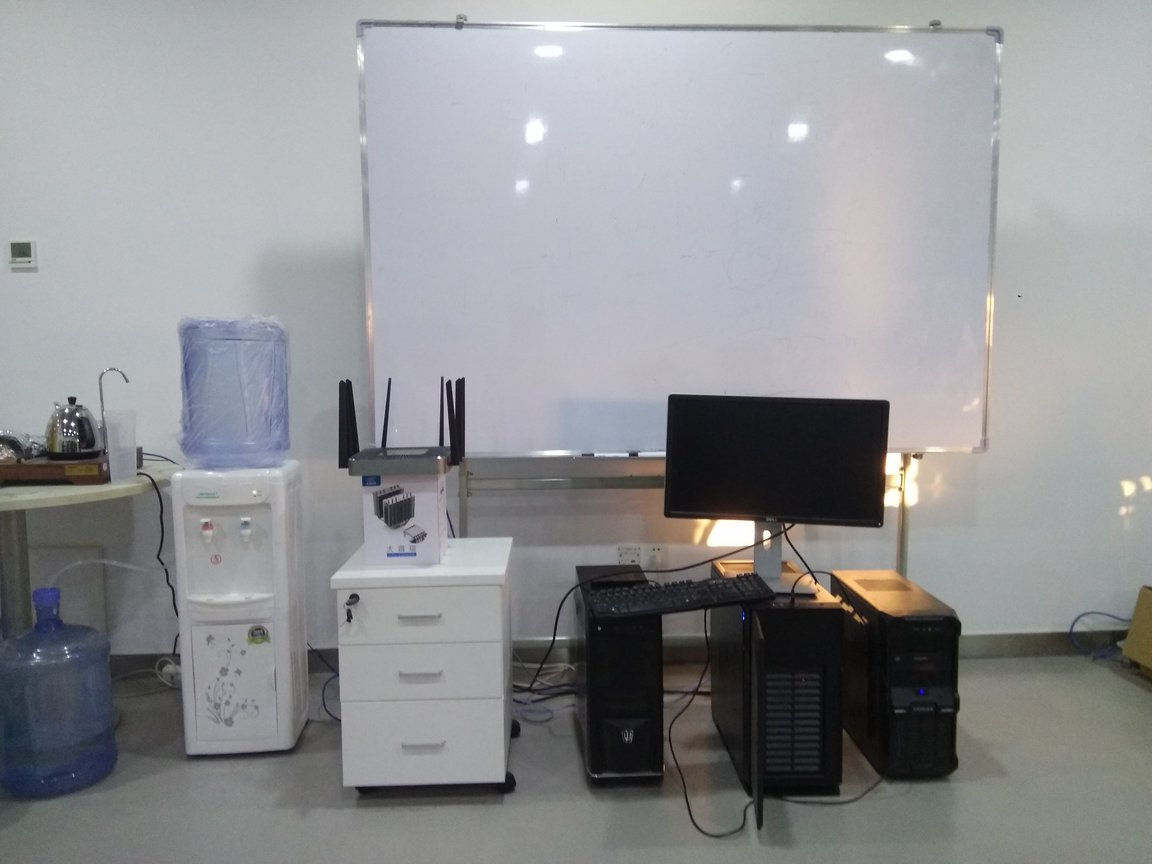computer: (711, 558, 847, 808), (828, 564, 962, 790), (570, 561, 668, 796)
drawer chest: (332, 534, 525, 803)
monitor: (662, 391, 891, 601)
scuttlebutt: (3, 582, 121, 804), (177, 314, 289, 463)
water dispenser: (166, 460, 314, 765)
